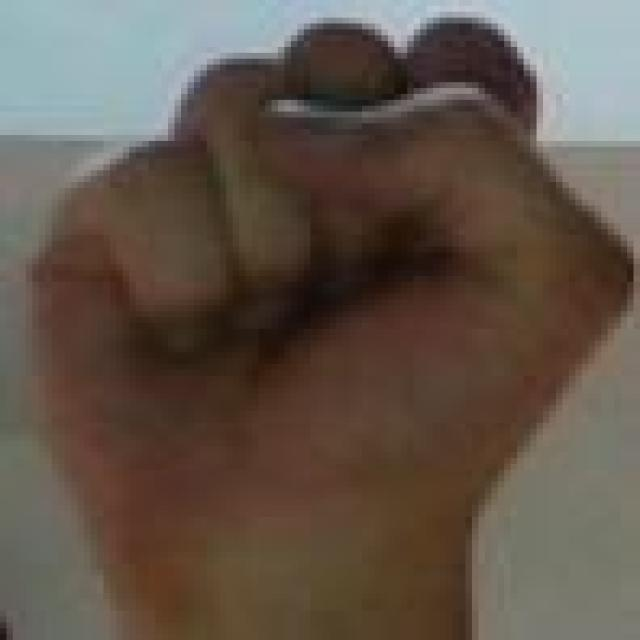S: (10, 5, 640, 479)
